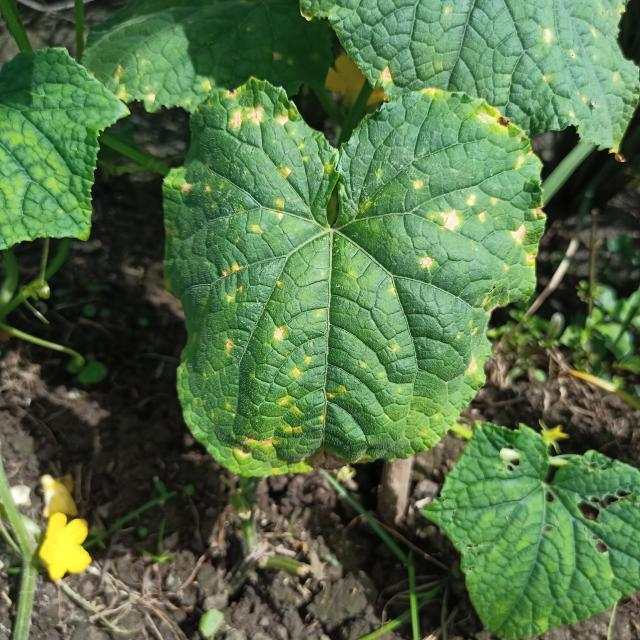disease_cucumber: (178, 81, 546, 475), (540, 26, 617, 121)
